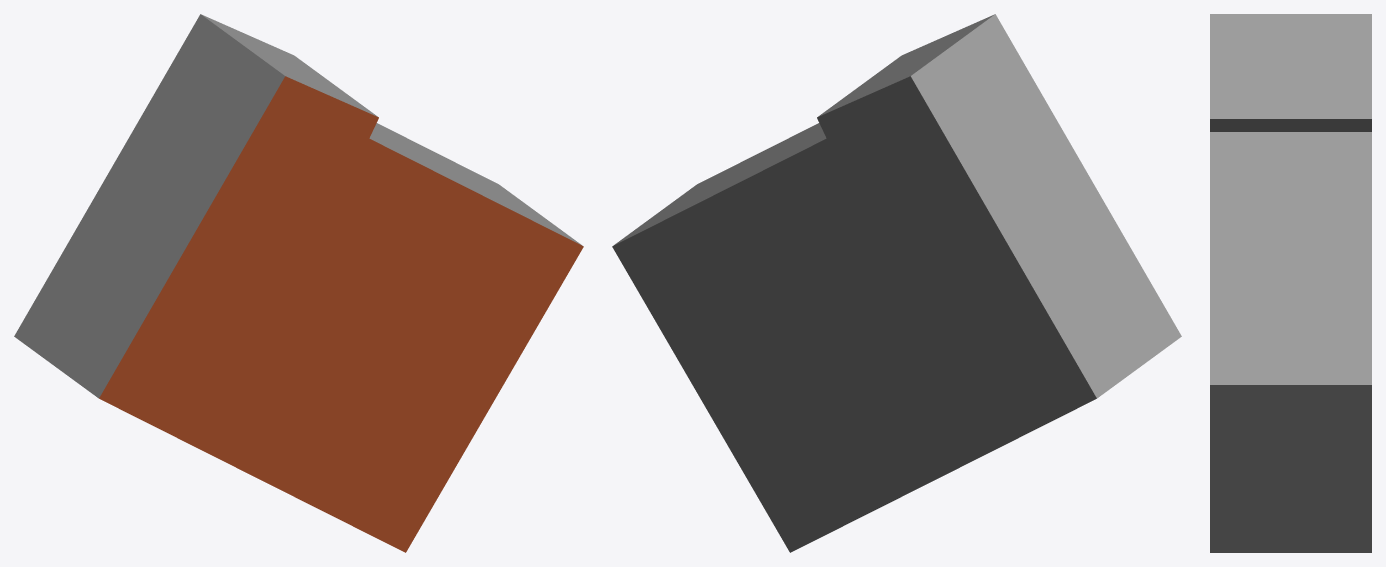
Rendered from construction_1707_assumed_A_Casa_h6m.obj.
The picture shows the model from 3 angles, left to right: view 1: azimuth 30°, elevation 25°; view 2: azimuth 150°, elevation 25°; view 3: azimuth 270°, elevation 25°; orthographic projection. The views are drawn at different scales.
Visible parts, largest first — view 1: construction_1707_assumed_A_Casa; view 2: construction_1707_assumed_A_Casa; view 3: construction_1707_assumed_A_Casa.
Part boxes in pixels (<box>): construction_1707_assumed_A_Casa: <box>14,14,583,552</box>; construction_1707_assumed_A_Casa: <box>612,14,1181,552</box>; construction_1707_assumed_A_Casa: <box>1210,14,1371,552</box>.
Size of the model in its own units: 19.79 by 19.74 by 6.
